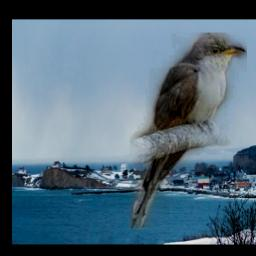Cuckoo: (129, 33, 247, 230)
